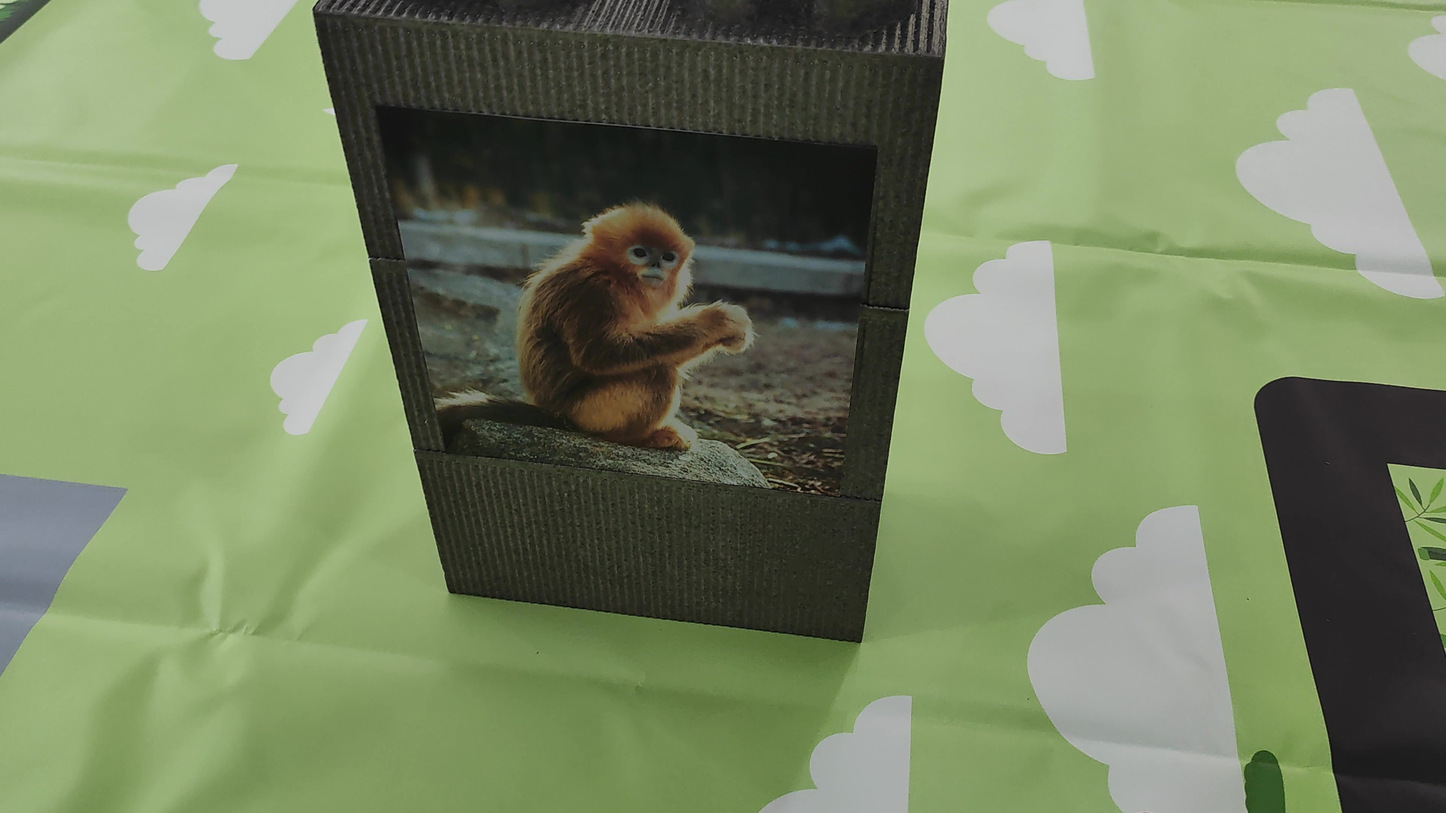monkey: (466, 166, 787, 463)
